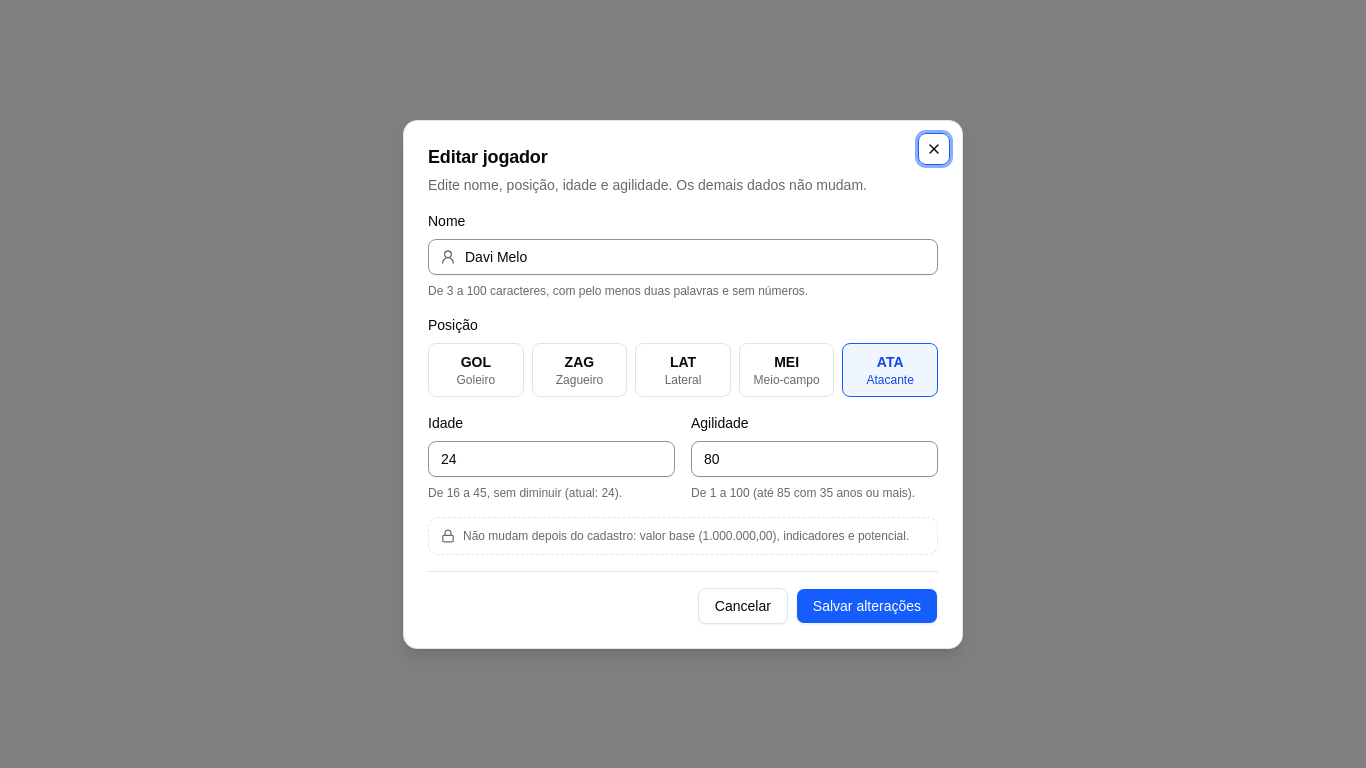
Test: EditPlayerDialog › impede diminuir a idade
The image size is (1366, 768).
Replace the text in the field labelled "Idade De 16 a 45, sem diminuir (atual: 24)." with "20" at (552, 458), box [428,440,675,476]
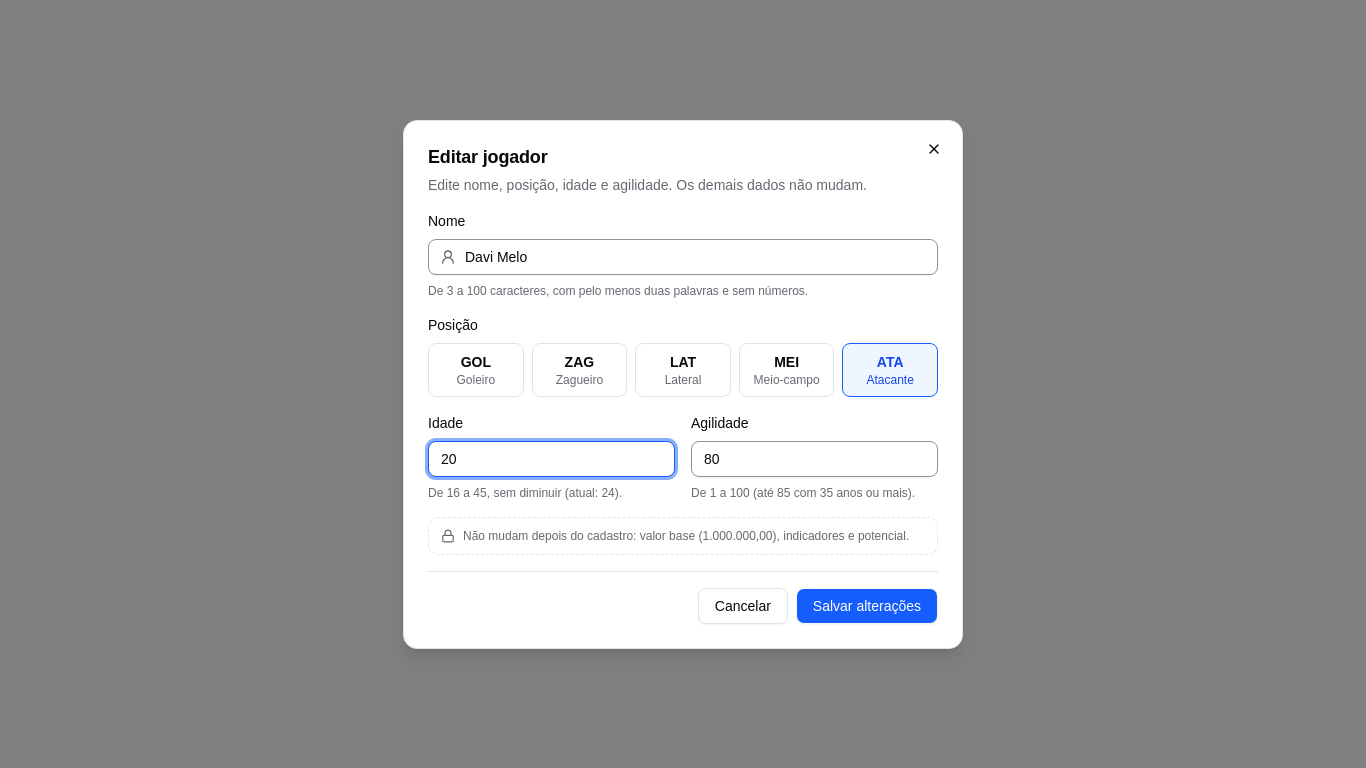
Click the button "Salvar alterações" at (867, 606), box [796,588,938,624]
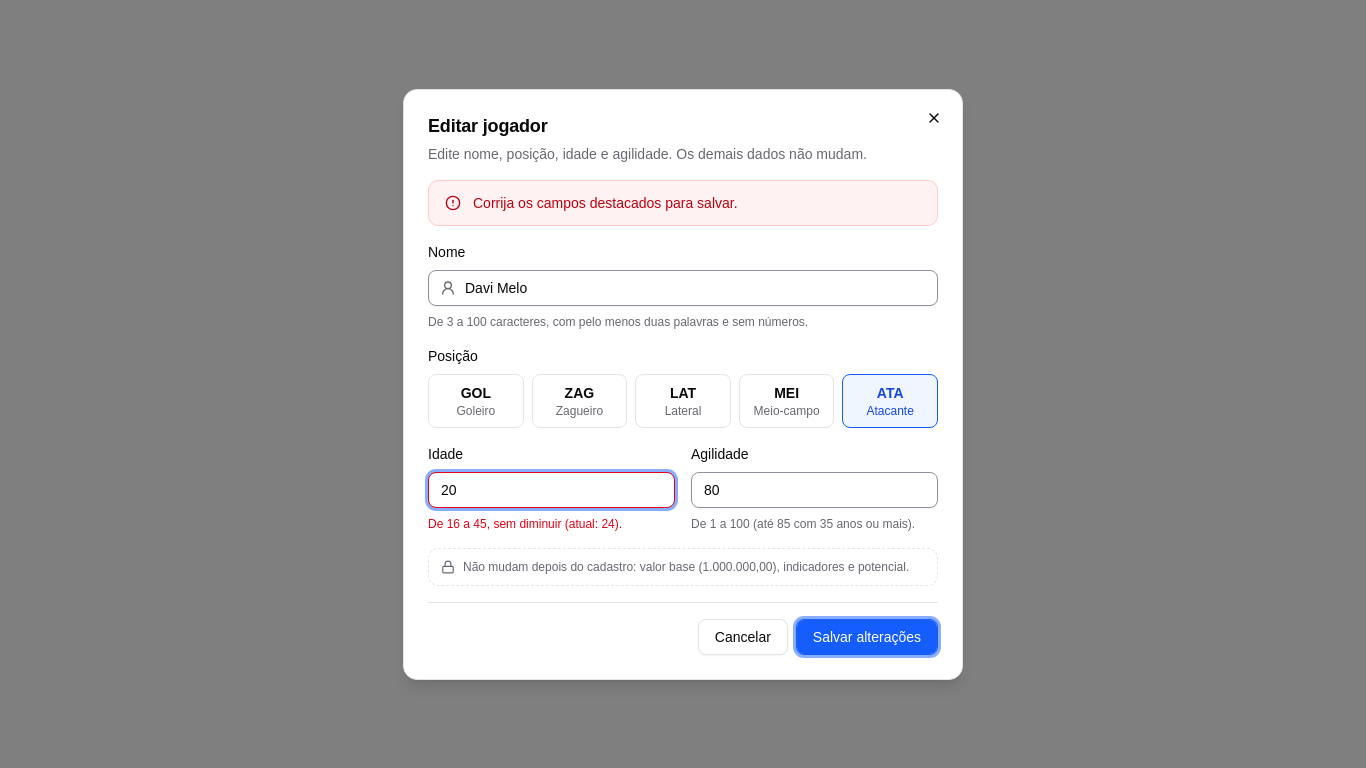
Expected: the text "De 16 a 45, sem diminuir (atual: 24)." is shown, [428,516,622,530]
Now the text "Corrija os campos destacados para salvar." is shown, box [473,194,738,210]
